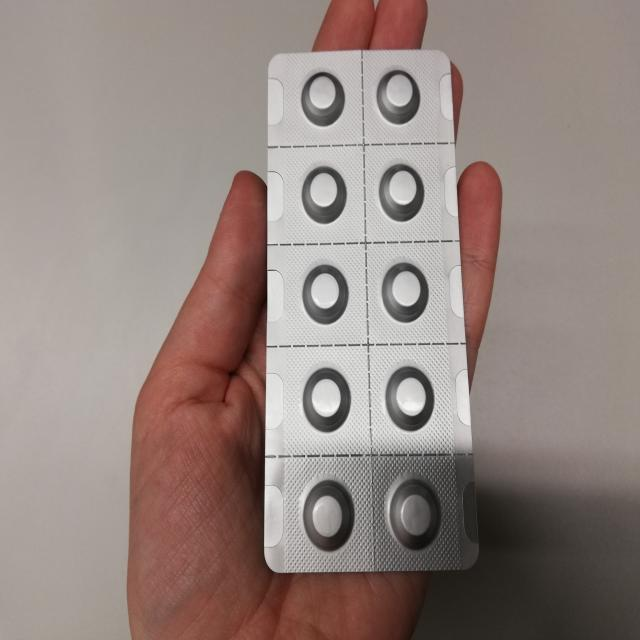Pill: (290, 478, 360, 556), (383, 478, 450, 554), (372, 256, 438, 330), (295, 363, 354, 439), (379, 365, 443, 431), (294, 259, 353, 328), (367, 66, 426, 128), (292, 63, 351, 124), (298, 165, 352, 226), (375, 161, 429, 220)
